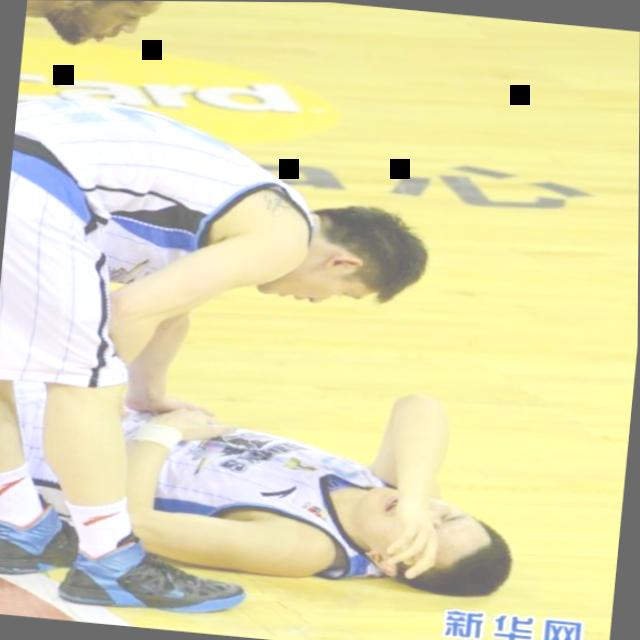Fall-Detected: (0, 355, 549, 619)
